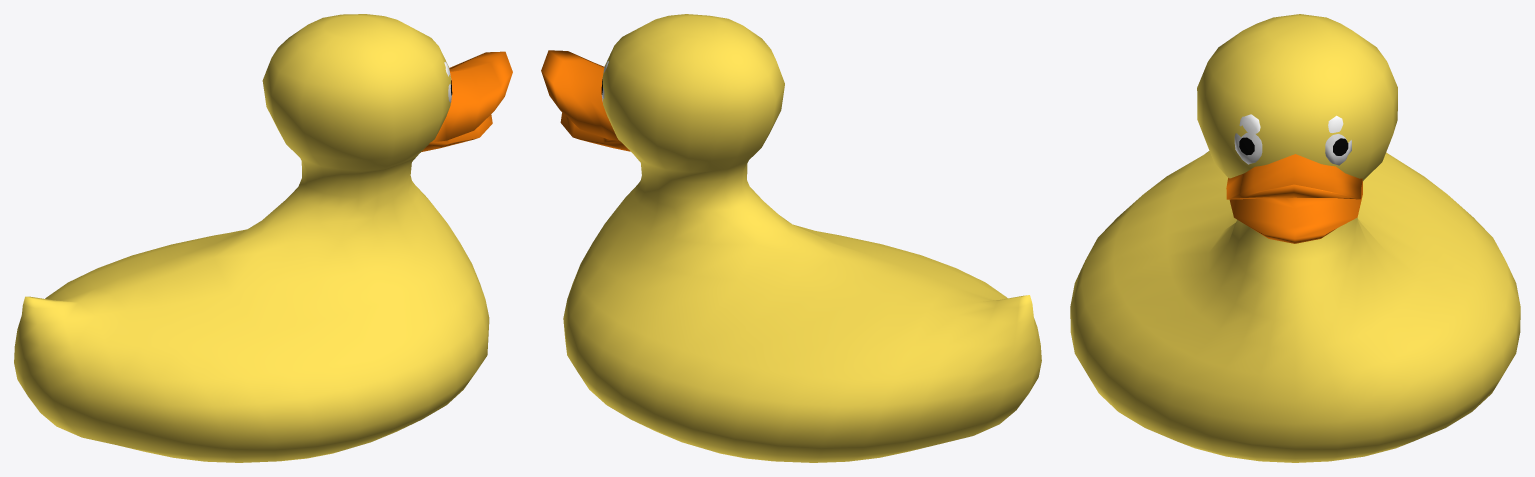
Rendered from rubberduckie.fbx.
3 renders of one model, left to right at view 1: azimuth 30°, elevation 25°; view 2: azimuth 150°, elevation 25°; view 3: azimuth 270°, elevation 25°, orthographic. The views are drawn at different scales.
Parts seen in each view (by area): view 1: RubberDuck, Beak; view 2: RubberDuck, Beak; view 3: RubberDuck, Beak, RightEye, LeftEye.
Part boxes in pixels (box(x1,y1,x2,y2)): RubberDuck: box(14, 14, 489, 462); Beak: box(421, 51, 512, 151); RubberDuck: box(563, 14, 1041, 462); Beak: box(541, 50, 630, 151); RubberDuck: box(1070, 14, 1520, 462); Beak: box(1226, 154, 1362, 243); RightEye: box(1234, 114, 1262, 164); LeftEye: box(1325, 115, 1351, 165).
Bounding box in the file's own units: 405 × 281 × 284.
